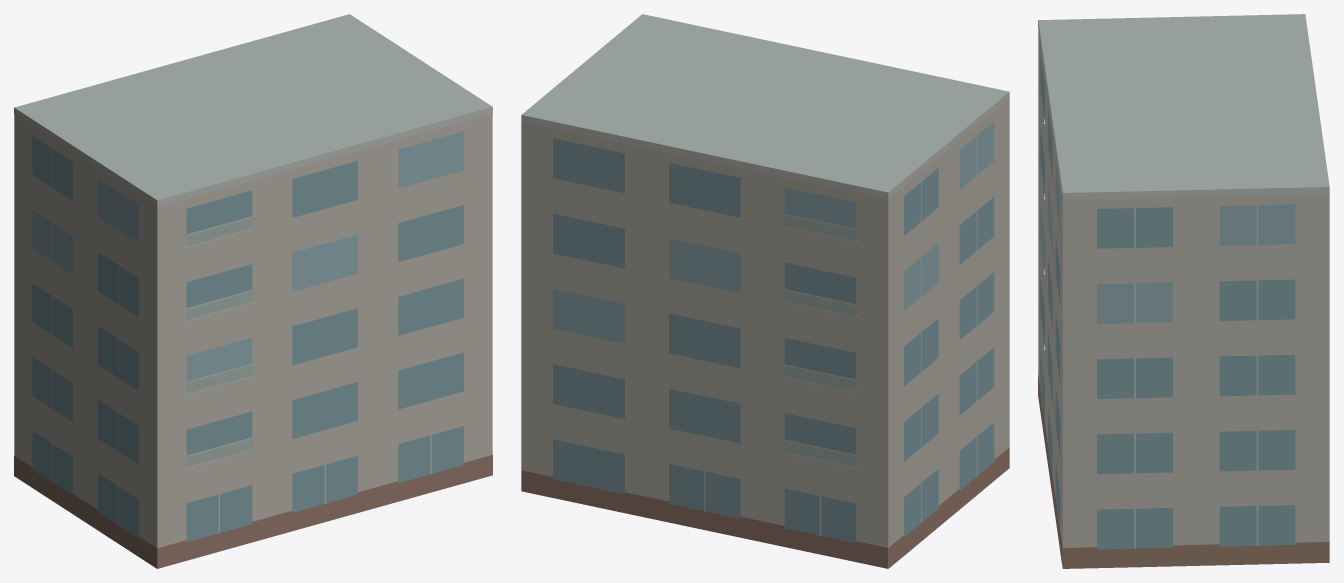
File: survey-upis-32885751.glb
3 renders of one model, left to right at view 1: azimuth 30°, elevation 25°; view 2: azimuth 150°, elevation 25°; view 3: azimuth 270°, elevation 25°, orthographic. The views are drawn at different scales.
Visible parts, largest first — view 1: survey-upis-32885751.tmp; view 2: survey-upis-32885751.tmp; view 3: survey-upis-32885751.tmp.
Part boxes in pixels (x1,y1,x2,y2): survey-upis-32885751.tmp: (14, 14, 492, 568); survey-upis-32885751.tmp: (521, 14, 1009, 568); survey-upis-32885751.tmp: (1038, 14, 1329, 568).
Bounding box in the file's own units: 13.5 × 13.2 × 9.29.
